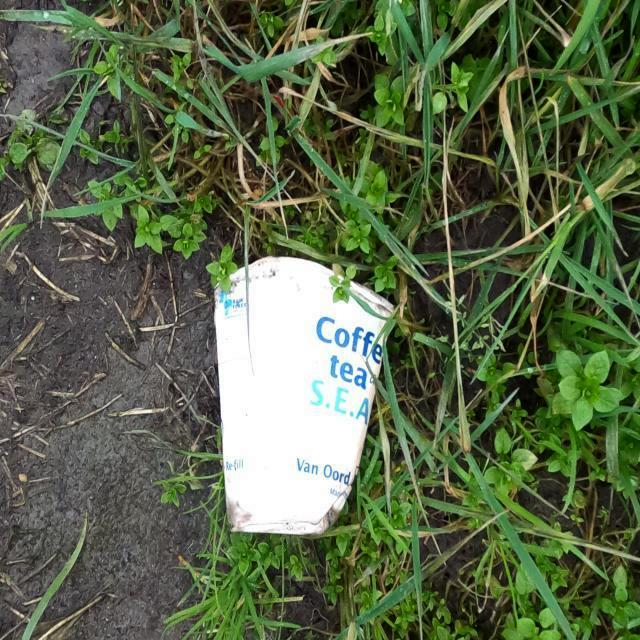Coffee Cup: (212, 252, 398, 540)
